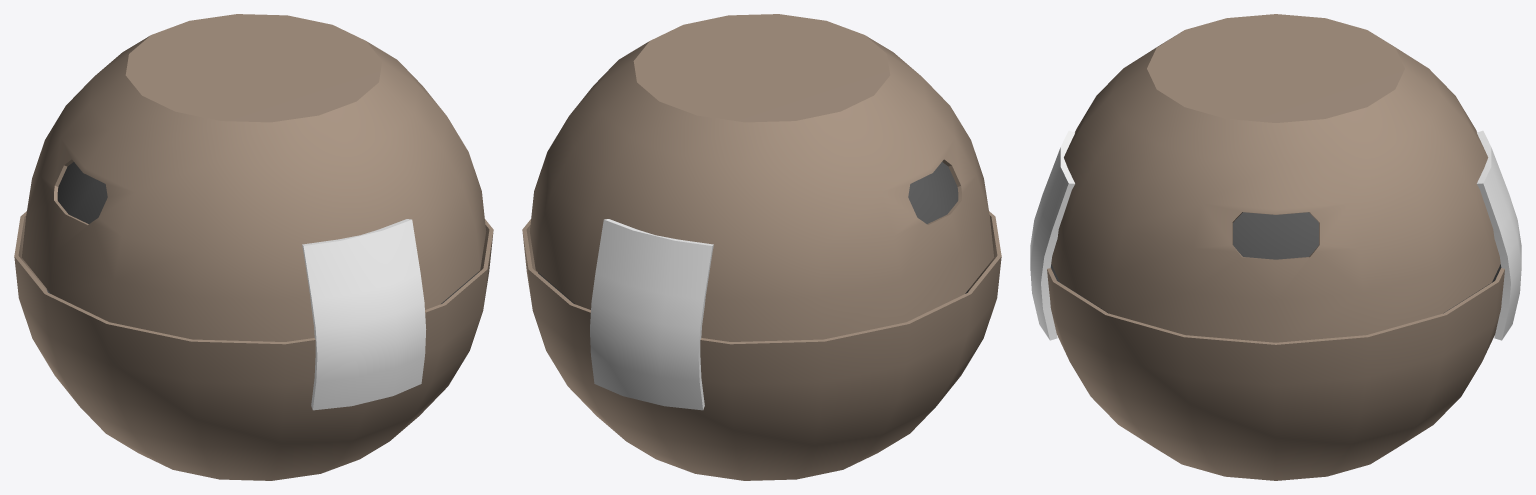
File: BallPackage.fbx
3 views of the same model, side by side, from view 1: azimuth 30°, elevation 25°; view 2: azimuth 150°, elevation 25°; view 3: azimuth 270°, elevation 25° (orthographic).
Parts seen in each view (by area): view 1: pPlane7; view 2: pPlane7; view 3: pPlane7.
Boxes of the visible parts, bbox=[...] form: pPlane7: bbox=[14, 14, 493, 480]; pPlane7: bbox=[522, 14, 1001, 480]; pPlane7: bbox=[1030, 14, 1521, 480].
Bounding box in the file's own units: 0.9581 × 0.7814 × 0.976.
